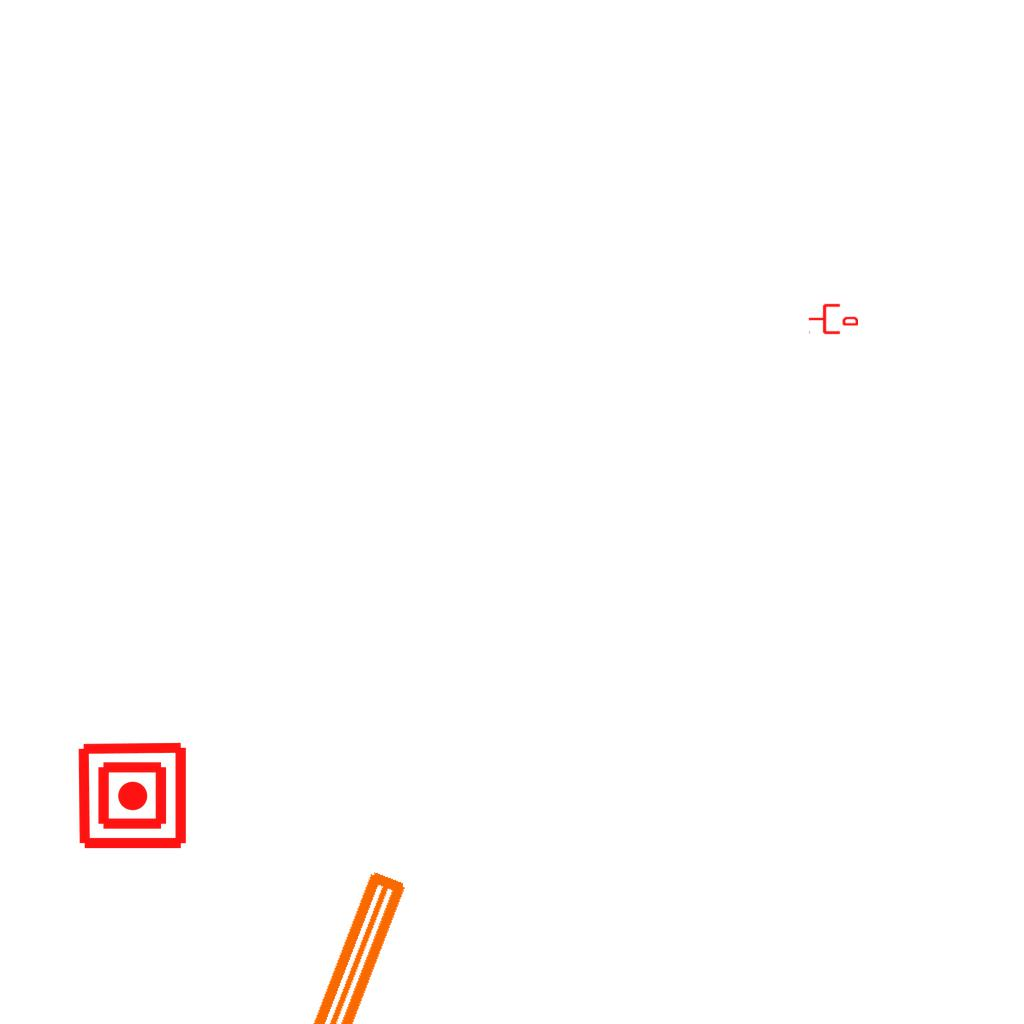Ambulanz_Pendelleuchte_LED: (87, 856, 469, 1024)
Datenanschluss_einfach: (808, 302, 858, 336)
NAM-Nichtautomatischer_Melder: (76, 739, 189, 852)
